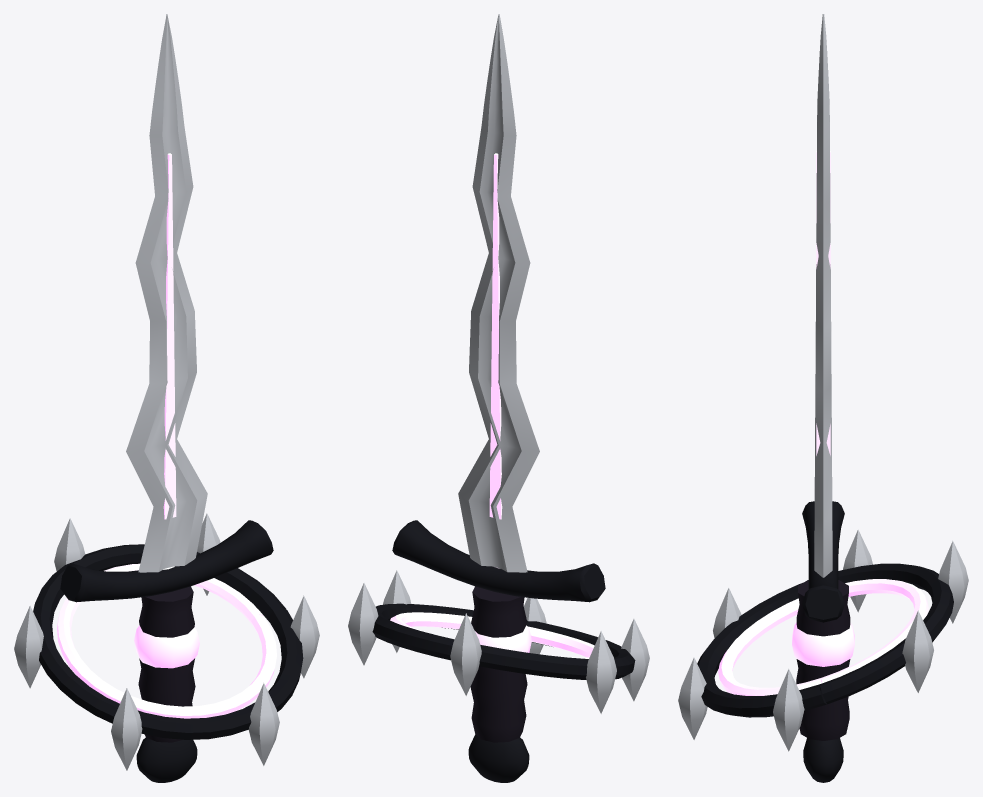
The model's file is esc_w_ranger_dagger_3.glb.
The picture shows the model from 3 angles, left to right: view 1: azimuth 30°, elevation 25°; view 2: azimuth 150°, elevation 25°; view 3: azimuth 270°, elevation 25°; orthographic projection.
Visible parts, largest first — view 1: esc_w_ranger_dagger_3; view 2: esc_w_ranger_dagger_3; view 3: esc_w_ranger_dagger_3.
Boxes of the visible parts, x1,y1,x2,y2 form: esc_w_ranger_dagger_3: [14, 14, 319, 782]; esc_w_ranger_dagger_3: [348, 14, 649, 782]; esc_w_ranger_dagger_3: [678, 14, 968, 782].
Size of the model in its own units: 0.1671 by 0.4582 by 0.1581.
